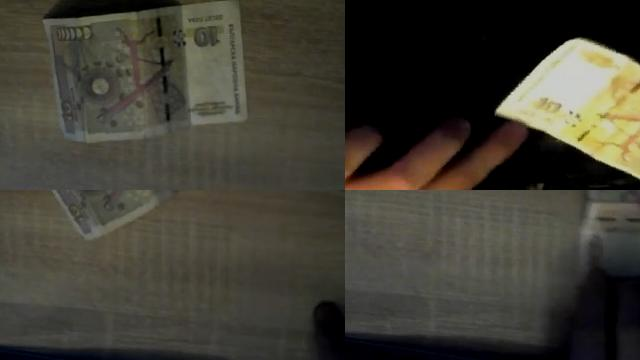10leva: (43, 0, 249, 141), (44, 0, 249, 141), (495, 35, 640, 178), (572, 190, 640, 360)
